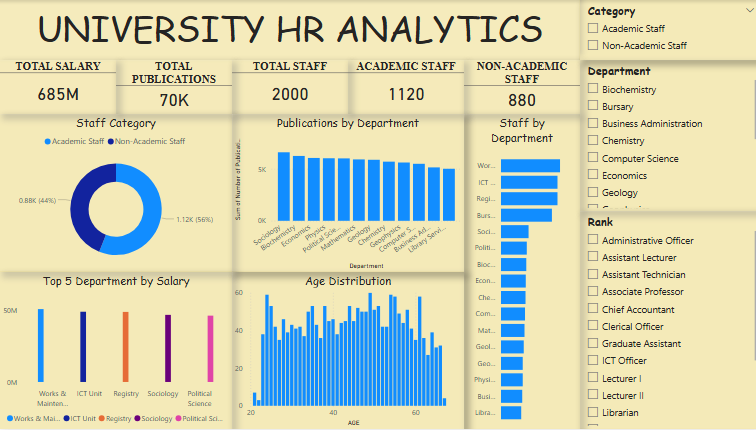

Layout of this report page (visuals, bound fields, positions):
{"tool":"powerbi","page":{"name":"Page 1","canvas":[1280,720],"ordinal":0},"visuals":[{"type":"textbox","box":[0,0,974.3,100.8],"z":0},{"type":"card","title":"TOTAL SALARY","fields":{"Values":["Sum(in.Salary)"]},"box":[0,100.8,194.9,90.7],"z":1000},{"type":"card","title":"TOTAL PUBLICATIONS","fields":{"Values":["Sum(in.Number of Publications)"]},"box":[194.9,100.8,194.9,90.7],"z":2000},{"type":"card","title":"TOTAL STAFF","fields":{"Values":["CountNonNull(in.StaffID)"]},"box":[389.7,100.8,194.9,90.7],"z":3000},{"type":"card","title":"ACADEMIC STAFF","fields":{"Values":["HR_Table.Academic Staff"]},"box":[584.6,100.8,194.9,90.7],"z":4000},{"type":"card","title":"NON-ACADEMIC STAFF","fields":{"Values":["HR_Table.Non-Academic Staff"]},"box":[779.4,100.8,194.9,90.7],"z":5000},{"type":"donutChart","title":"Staff Category","fields":{"Category":["HR_Table.Category"],"Y":["CountNonNull(HR_Table.StaffID)"]},"box":[0,191.5,389.7,265.4],"z":6000},{"type":"clusteredColumnChart","title":"Top 5 Department by Salary","fields":{"Category":["HR_Table.Department"],"Y":["Sum(HR_Table.Salary)"],"Series":["HR_Table.Department"]},"box":[0,456.9,389.7,263.7],"z":7000},{"type":"clusteredBarChart","title":"Staff by Department","fields":{"Category":["HR_Table.Department"],"Y":["CountNonNull(HR_Table.StaffID)"]},"box":[779.4,191.5,194.9,529.1],"z":8000},{"type":"lineClusteredColumnComboChart","title":"Age Distribution","fields":{"Category":["HR_Table.AGE"],"Y":["CountNonNull(HR_Table.StaffID)"]},"box":[389.7,456.9,389.7,263.7],"z":9000},{"type":"clusteredColumnChart","title":"Publications by Department","fields":{"Category":["HR_Table.Department"],"Y":["Sum(HR_Table.Number of Publications)"]},"box":[389.7,191.5,389.7,265.4],"z":10000},{"type":"slicer","fields":{"Values":["HR_Table.Department"]},"box":[974.3,100.8,305.7,253.6],"z":10001},{"type":"slicer","fields":{"Values":["HR_Table.Category"]},"box":[974.3,0,305.7,100.8],"z":10002},{"type":"slicer","fields":{"Values":["HR_Table.Rank"]},"box":[974.3,354.4,305.7,366.2],"z":10003}]}

Visuals, with their boxes in screenshot pixels (x1, y1, x2, y2), scaled from the page's 1280x720 canvas onto the 756x430 screenshot:
textbox: (0,0,575,60)
"TOTAL SALARY" card: (0,60,115,114)
"TOTAL PUBLICATIONS" card: (115,60,230,114)
"TOTAL STAFF" card: (230,60,345,114)
"ACADEMIC STAFF" card: (345,60,460,114)
"NON-ACADEMIC STAFF" card: (460,60,575,114)
"Staff Category" donutChart: (0,114,230,273)
"Top 5 Department by Salary" clusteredColumnChart: (0,273,230,429)
"Staff by Department" clusteredBarChart: (460,114,575,429)
"Age Distribution" lineClusteredColumnComboChart: (230,273,460,429)
"Publications by Department" clusteredColumnChart: (230,114,460,273)
slicer - HR_Table.Department: (575,60,755,212)
slicer - HR_Table.Category: (575,0,755,60)
slicer - HR_Table.Rank: (575,212,755,429)
